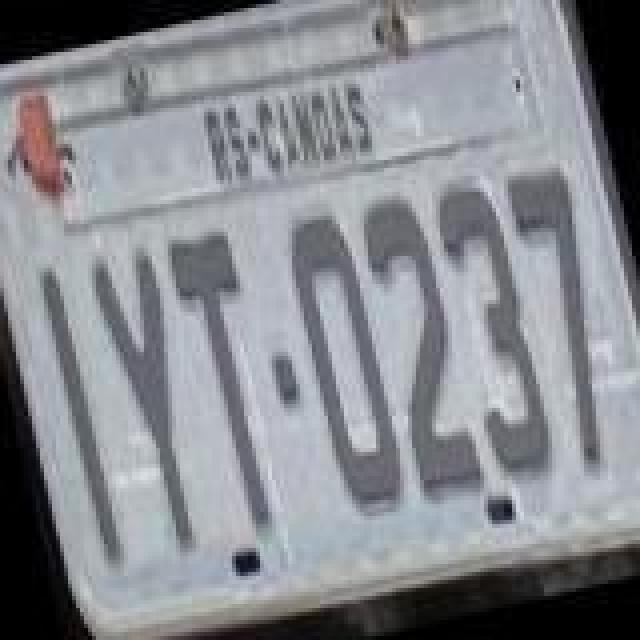1: (34, 264, 126, 568)
2: (356, 190, 492, 506)
3: (428, 172, 564, 484)
7: (502, 156, 634, 468)
O: (276, 208, 412, 520)
T: (166, 228, 298, 540)
Y: (84, 244, 220, 556)
